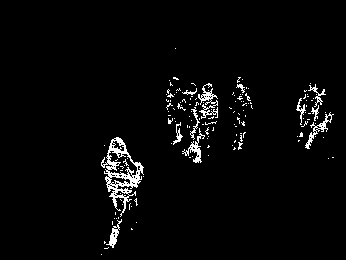person: (99, 133, 145, 252), (183, 79, 218, 160), (227, 74, 253, 154), (296, 80, 321, 146), (164, 73, 186, 146)
